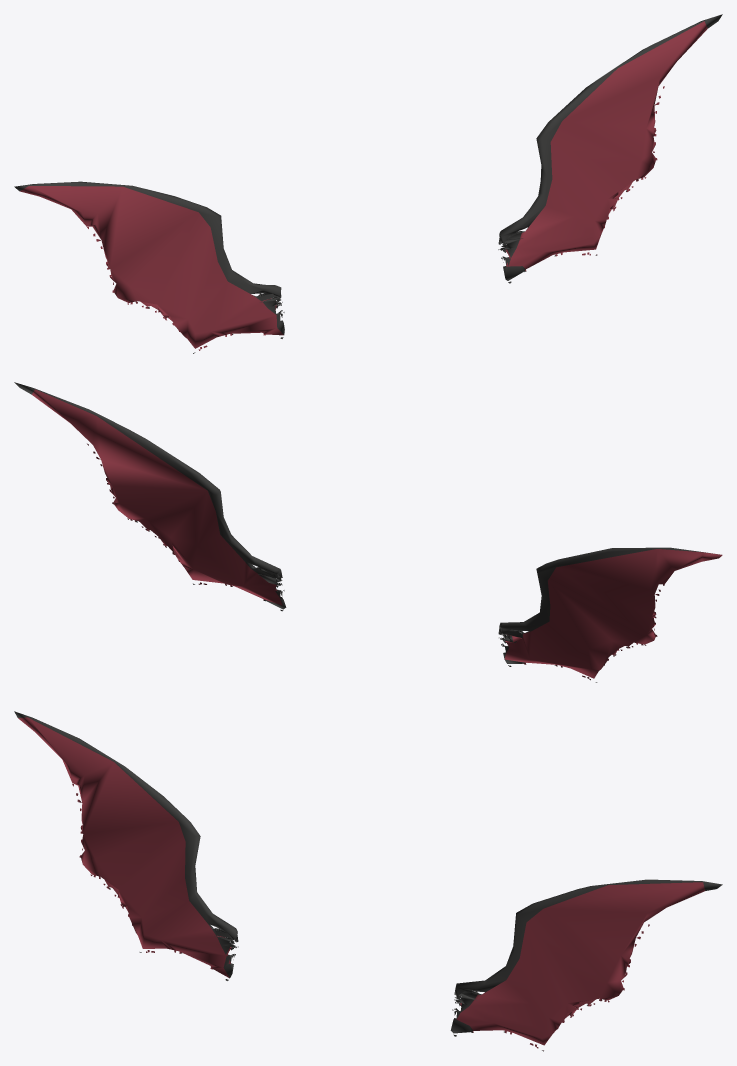
The model's file is Wings_Bat.glb.
3 views of the same model, one above another, from view 1: azimuth 30°, elevation 25°; view 2: azimuth 150°, elevation 25°; view 3: azimuth 330°, elevation 25° (orthographic).
Parts seen in each view (by area): view 1: Wings_Bat; view 2: Wings_Bat; view 3: Wings_Bat.
Boxes of the visible parts, x1,y1,x2,y2 form: Wings_Bat: (14,14,722,353); Wings_Bat: (14,382,722,682); Wings_Bat: (14,711,722,1051).
Size of the model in its own units: 2.71 by 0.6967 by 0.1835.
1 material, 1 textured.
